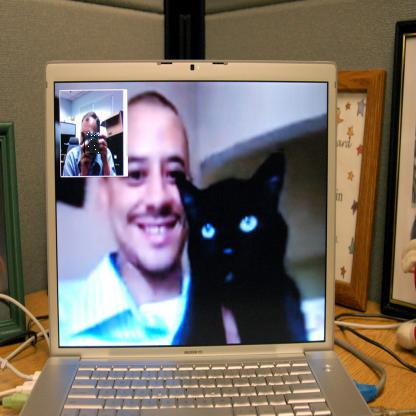Camera: (86, 133, 102, 155)
